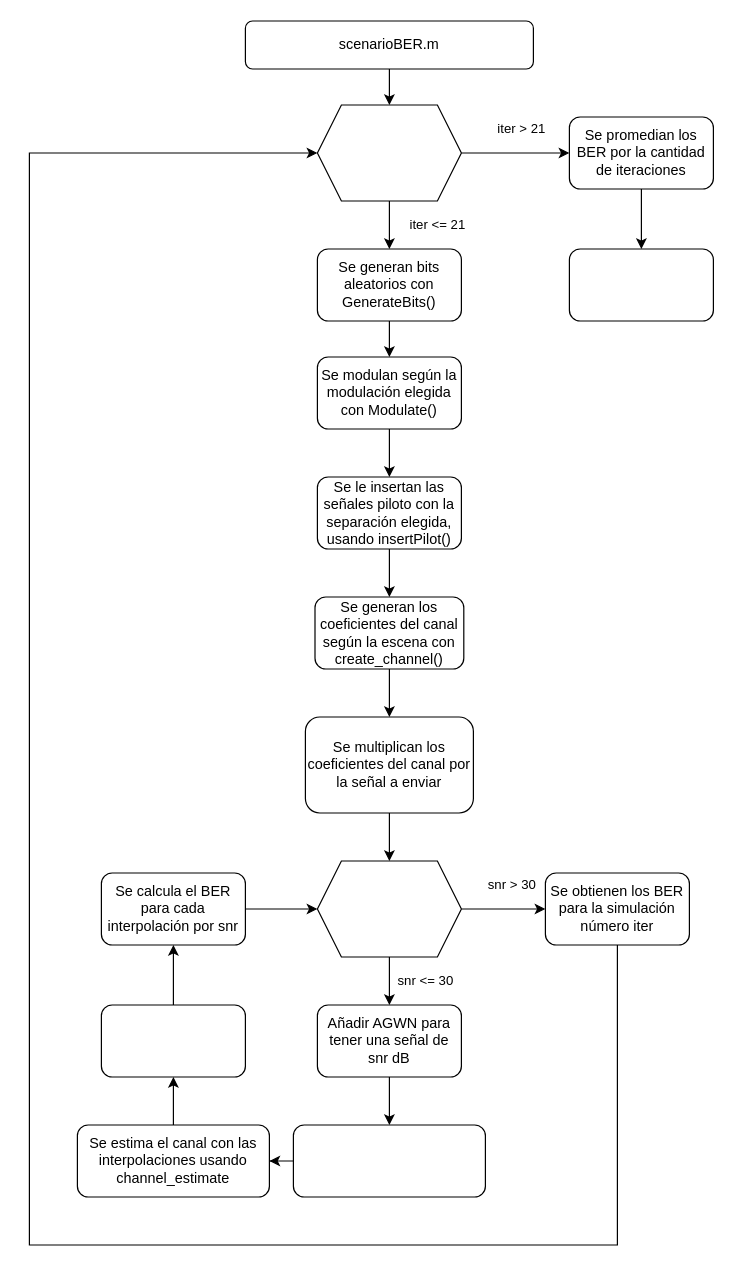
Image size: 734x1276. Some labels were removed from this diagram. The centre of each missing label's shape, as x and y in pixels:
Desde iter = 1 Hasta 21 Incremento 1: (x=388, y=152)
Desde snr = -2 Hasta 30 Incremento 1: (x=388, y=908)
Se ecualiza la señal y se demodula con Demodulate: (x=172, y=1040)
Se retorna el BER obtenido para cada simulación: (x=640, y=284)
Se separan los símbolos y las señales pilotos recibidas con separatePilot(): (x=388, y=1160)
